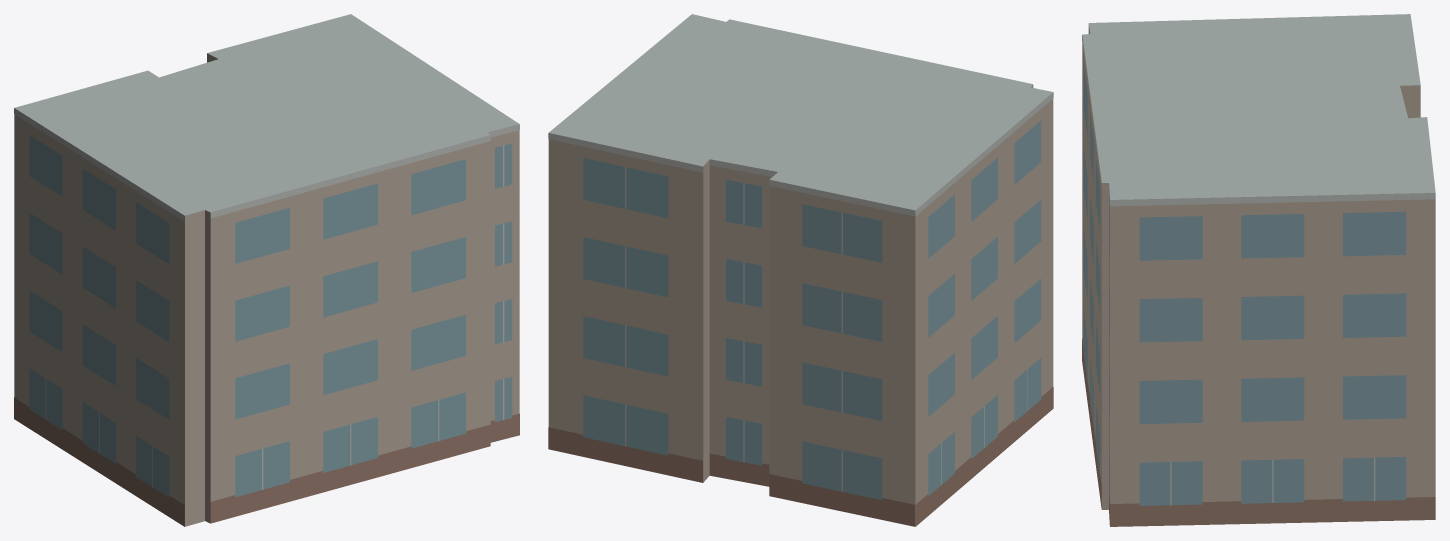
The model's file is survey-upis-32738185.glb.
3 renders of one model, left to right at view 1: azimuth 30°, elevation 25°; view 2: azimuth 150°, elevation 25°; view 3: azimuth 270°, elevation 25°, orthographic. The views are drawn at different scales.
Parts seen in each view (by area): view 1: survey-upis-32738185.tmp; view 2: survey-upis-32738185.tmp; view 3: survey-upis-32738185.tmp.
Part boxes in pixels (bbox=[...]): survey-upis-32738185.tmp: bbox=[14, 14, 519, 526]; survey-upis-32738185.tmp: bbox=[548, 14, 1053, 526]; survey-upis-32738185.tmp: bbox=[1082, 14, 1435, 526].
Bounding box in the file's own units: 15.26 × 12.5 × 12.26.
